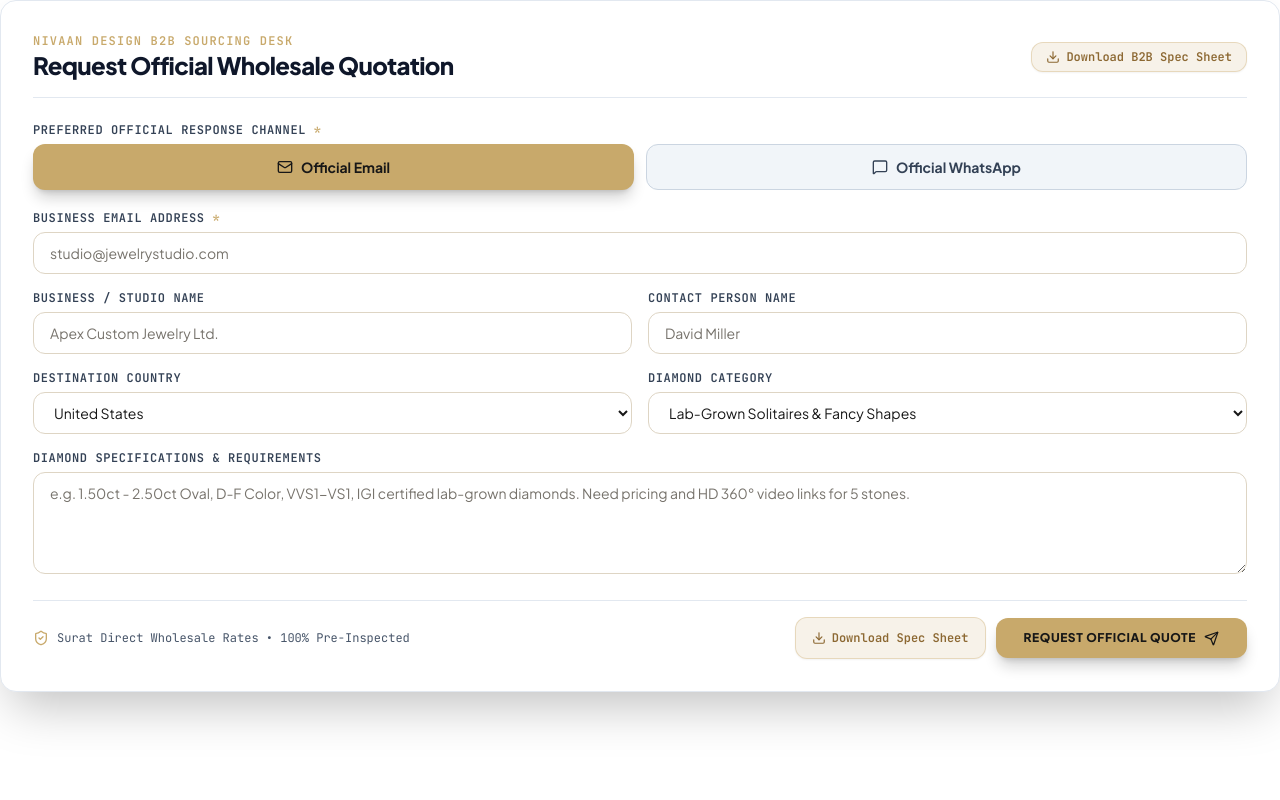
Test: Official B2B Quote Request Comprehensive Test Suite Across All Pages & Modes › case 5: QuoteForm validates email method input and handles success submission
# Try submitting empty email
Click the button "Request Official Quote". click: (1121, 638)
box: [996,618,1247,658]
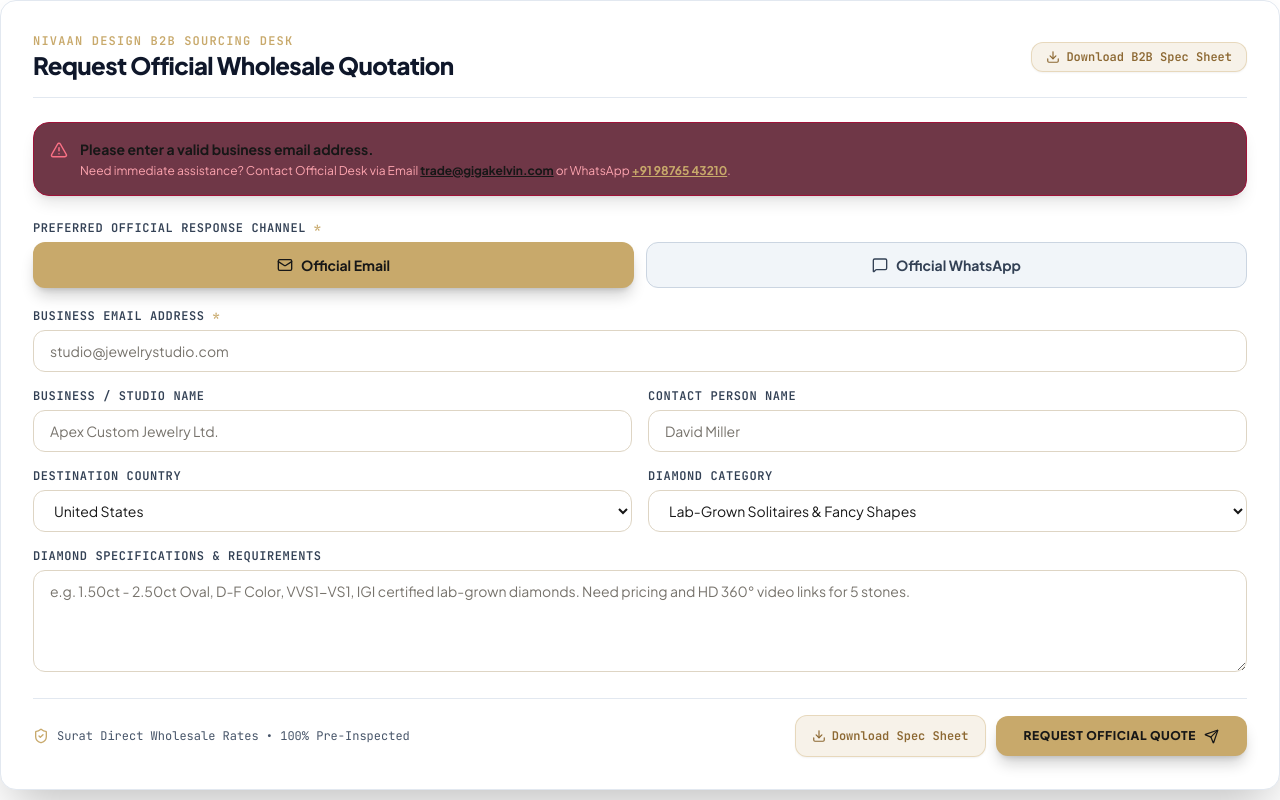
Now the text "Please enter a valid business email address." is shown, box [80,140,374,158]
# Fill valid email
Type "buyer@atelier.com" into the field with placeholder "studio@jewelrystudio.com". click: (640, 351)
box: [33,330,1247,372]
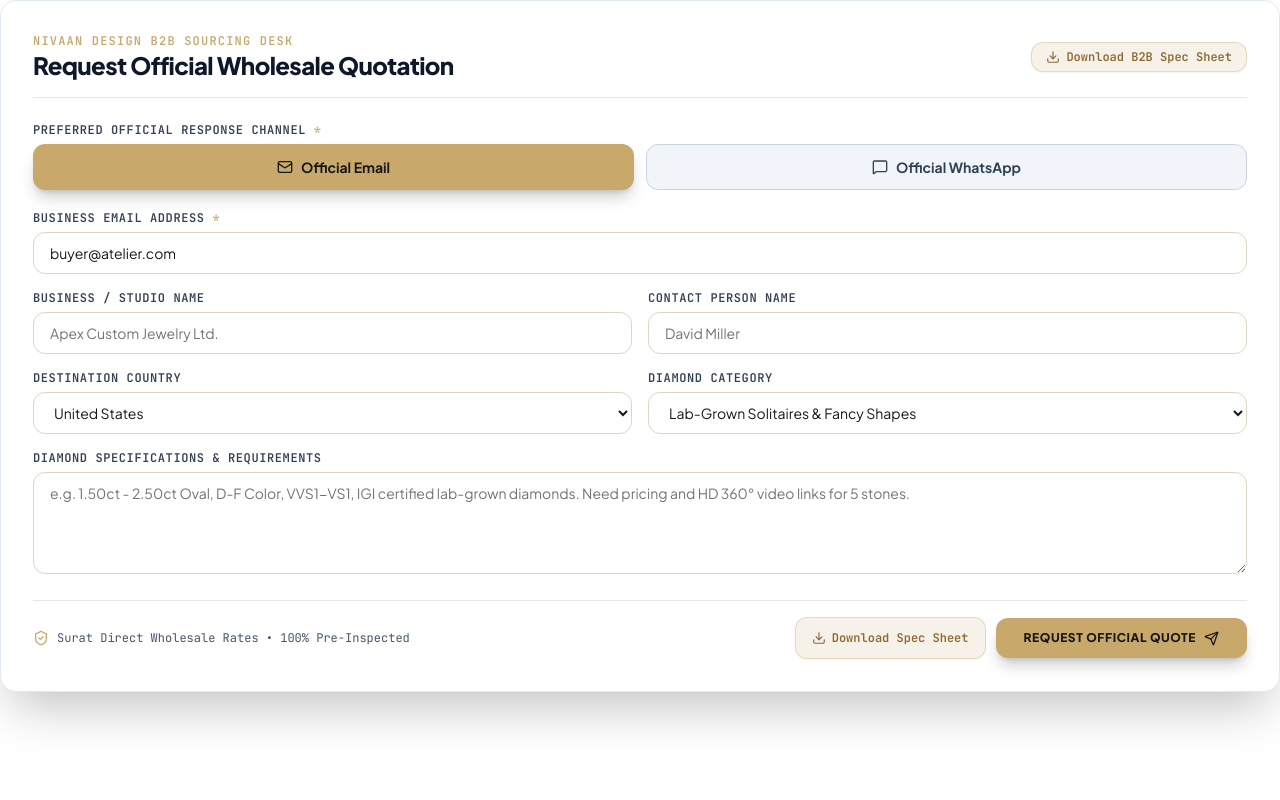
# Submit form
Click the button "Request Official Quote". click: (1121, 638)
box: [996,618,1247,658]
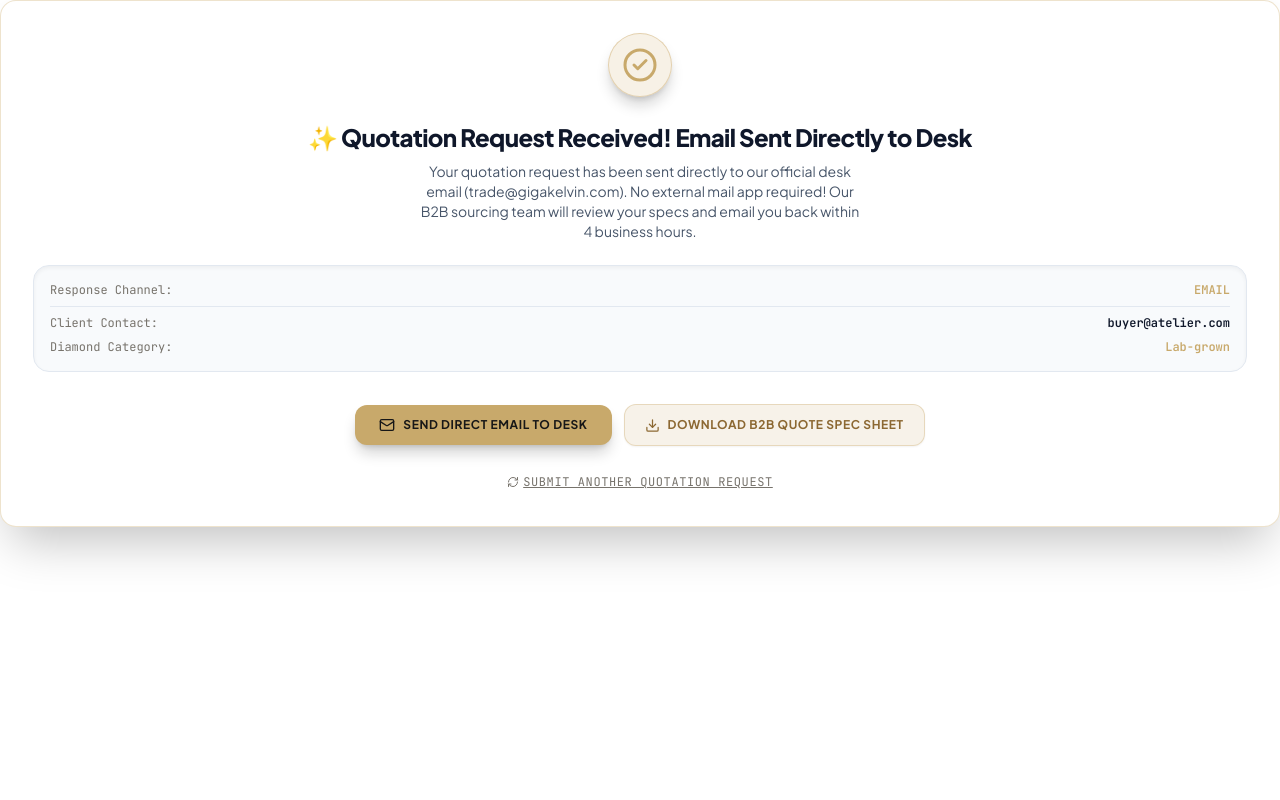
Now the heading "✨ Quotation Request Received! Email Sent Directly to Desk" is shown, box [308,122,972,152]
Now the text "buyer@atelier.com" is shown, box [1108,315,1230,331]
